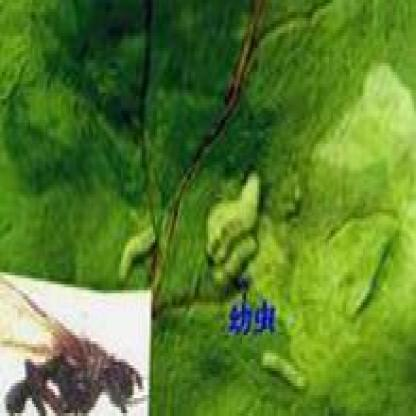whorl-maggot: (202, 157, 266, 290), (114, 219, 160, 287), (263, 344, 311, 390)
